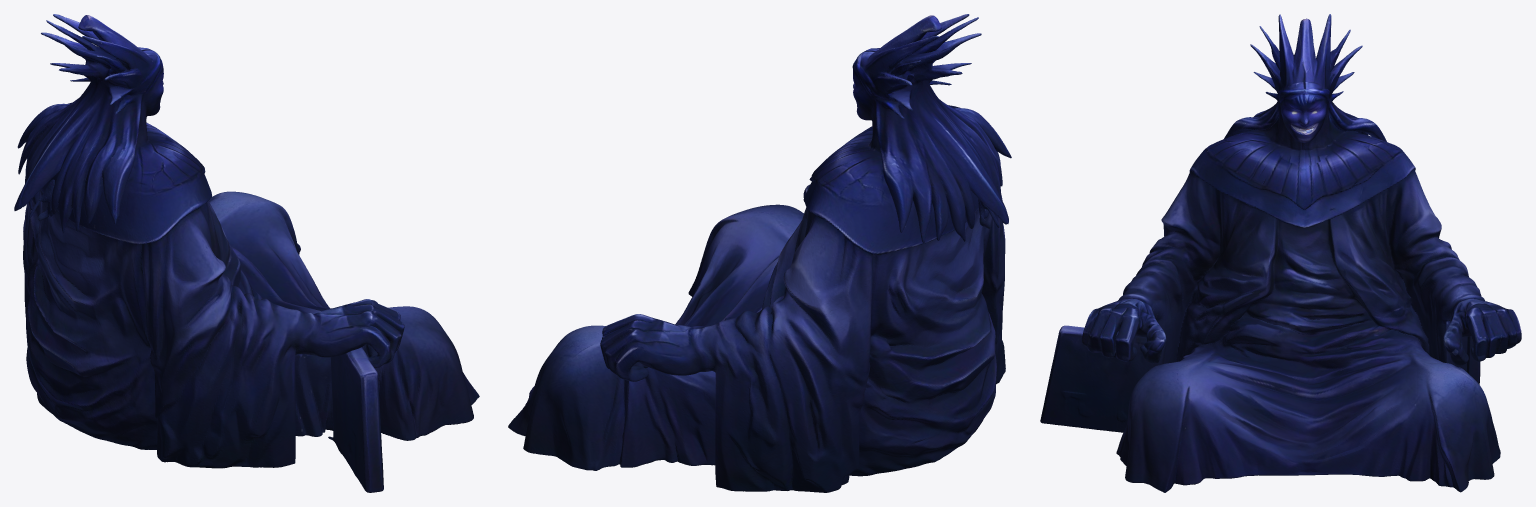
The model's file is dark-throne-statue.glb.
3 views of the same model, side by side, from view 1: azimuth 30°, elevation 25°; view 2: azimuth 150°, elevation 25°; view 3: azimuth 270°, elevation 25° (orthographic). The views are drawn at different scales.
Parts seen in each view (by area): view 1: tripo_node_da77c3c6-1998-4a86-b7bb-1a0b6086e955; view 2: tripo_node_da77c3c6-1998-4a86-b7bb-1a0b6086e955; view 3: tripo_node_da77c3c6-1998-4a86-b7bb-1a0b6086e955.
Part boxes in pixels (x1,y1,x2,y2): tripo_node_da77c3c6-1998-4a86-b7bb-1a0b6086e955: (14,14,479,492); tripo_node_da77c3c6-1998-4a86-b7bb-1a0b6086e955: (508,14,1011,492); tripo_node_da77c3c6-1998-4a86-b7bb-1a0b6086e955: (1040,14,1521,492).
Size of the model in its own units: 0.7937 by 0.7886 by 1.
1 material, 1 textured.
